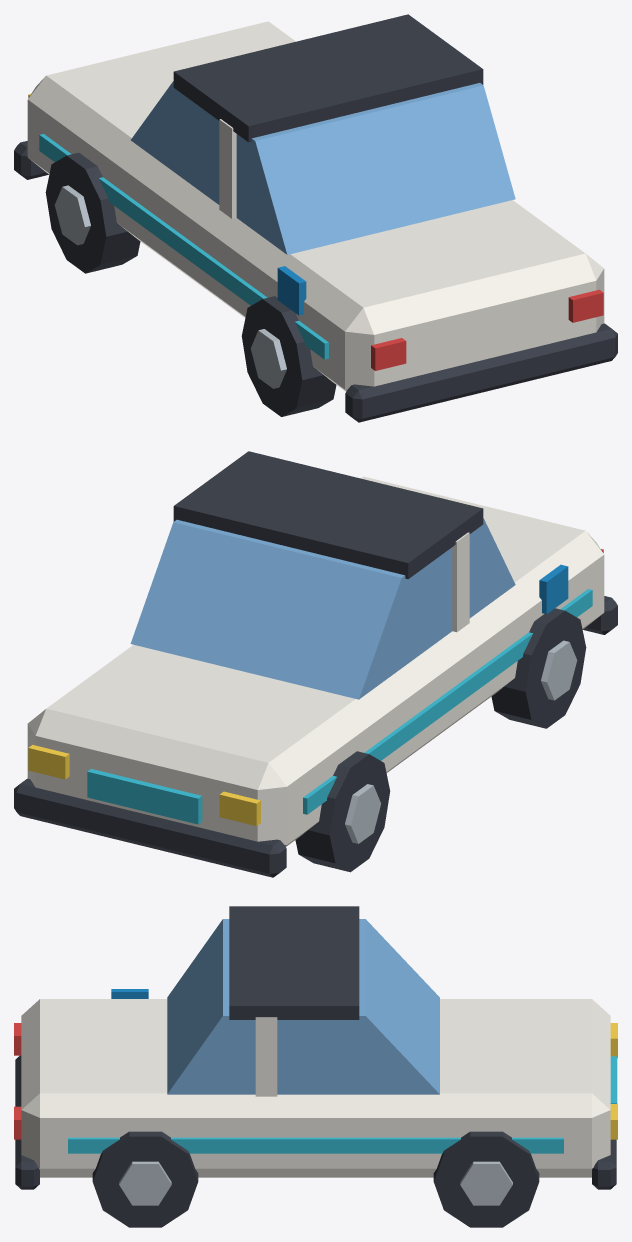
The model's file is carro_eletrico.glb.
3 views of the same model, one above another, from view 1: azimuth 30°, elevation 25°; view 2: azimuth 150°, elevation 25°; view 3: azimuth 270°, elevation 25° (orthographic). The views are drawn at different scales.
Visible parts, largest first — view 1: corpo; view 2: corpo; view 3: corpo.
Part boxes in pixels (bbox=[...]): corpo: bbox=[14, 14, 617, 422]; corpo: bbox=[14, 451, 617, 877]; corpo: bbox=[14, 906, 617, 1227].
Bounding box in the file's own units: 0.48 × 0.3758 × 0.974.
